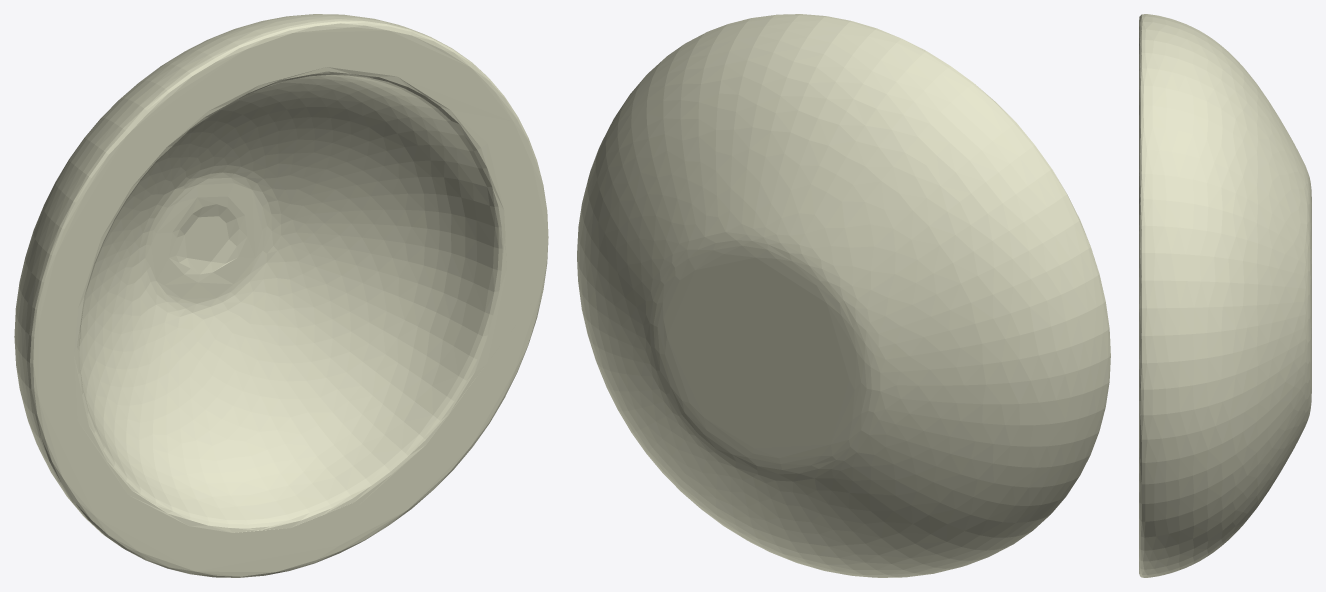
The picture shows the model from 3 angles, left to right: view 1: azimuth 30°, elevation 25°; view 2: azimuth 150°, elevation 25°; view 3: azimuth 270°, elevation 25°; orthographic projection. The views are drawn at different scales.
Parts seen in each view (by area): view 1: k m timpani vessels countertop lavatory in mirror finish; view 2: k m timpani vessels countertop lavatory in mirror finish; view 3: k m timpani vessels countertop lavatory in mirror finish.
Boxes of the visible parts, bbox=[...] form: k m timpani vessels countertop lavatory in mirror finish: bbox=[14, 14, 548, 577]; k m timpani vessels countertop lavatory in mirror finish: bbox=[577, 14, 1110, 577]; k m timpani vessels countertop lavatory in mirror finish: bbox=[1139, 14, 1311, 577].
Bounding box in the file's own units: 16.32 × 16.33 × 4.99.
